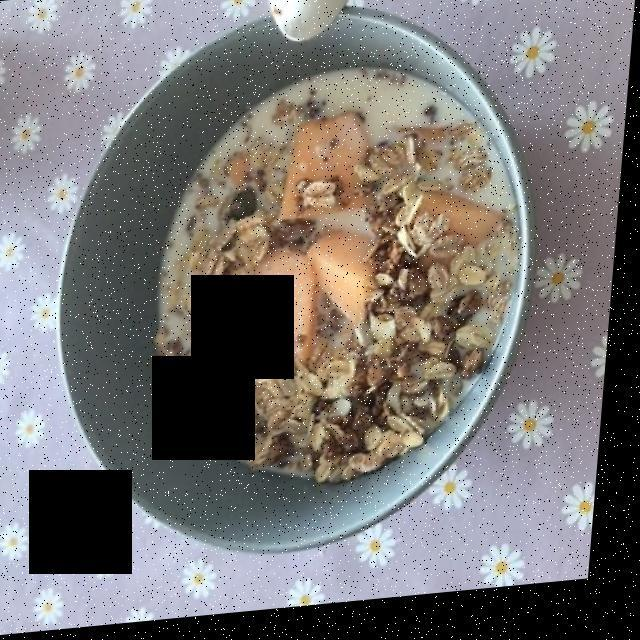melon: (219, 120, 507, 378)
milk: (166, 65, 513, 472)
muesli: (159, 79, 515, 486)
